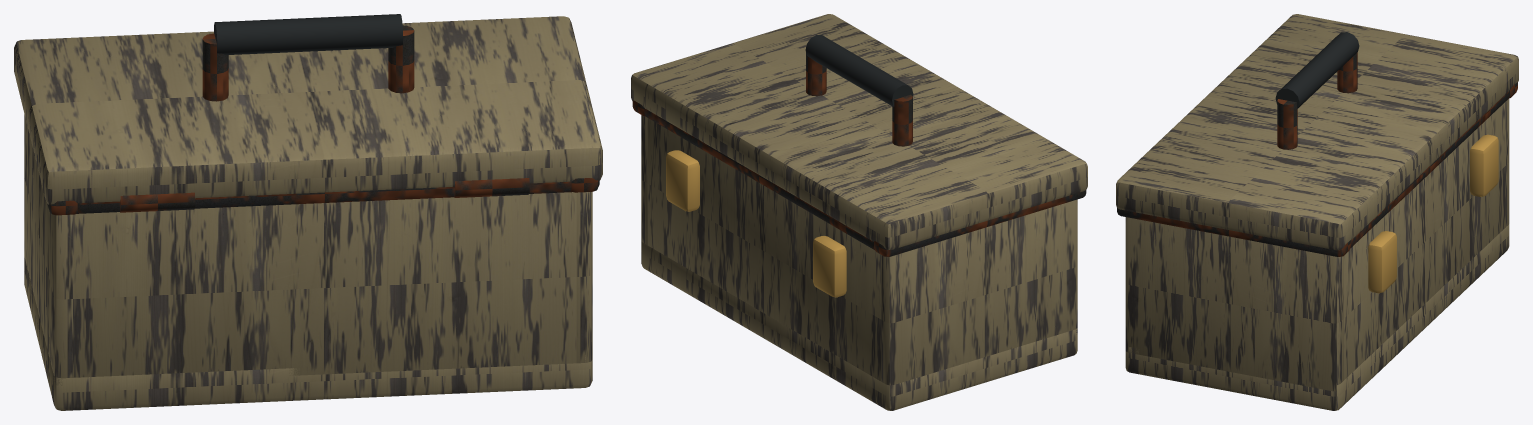
File: SM_ClosedToolCase_5f6f66f535.fbx
The picture shows the model from 3 angles, left to right: view 1: azimuth 30°, elevation 25°; view 2: azimuth 150°, elevation 25°; view 3: azimuth 270°, elevation 25°; orthographic projection. The views are drawn at different scales.
Visible parts, largest first — view 1: SM_ClosedToolCase_5f6f66f535; view 2: SM_ClosedToolCase_5f6f66f535; view 3: SM_ClosedToolCase_5f6f66f535.
Boxes of the visible parts, bbox=[...] form: SM_ClosedToolCase_5f6f66f535: bbox=[14, 14, 602, 410]; SM_ClosedToolCase_5f6f66f535: bbox=[631, 14, 1087, 410]; SM_ClosedToolCase_5f6f66f535: bbox=[1116, 14, 1518, 410].
Size of what is drawn, in the model's own units: 68.03 by 54.89 by 37.8.
Materials: 4 (2 with a texture image).
